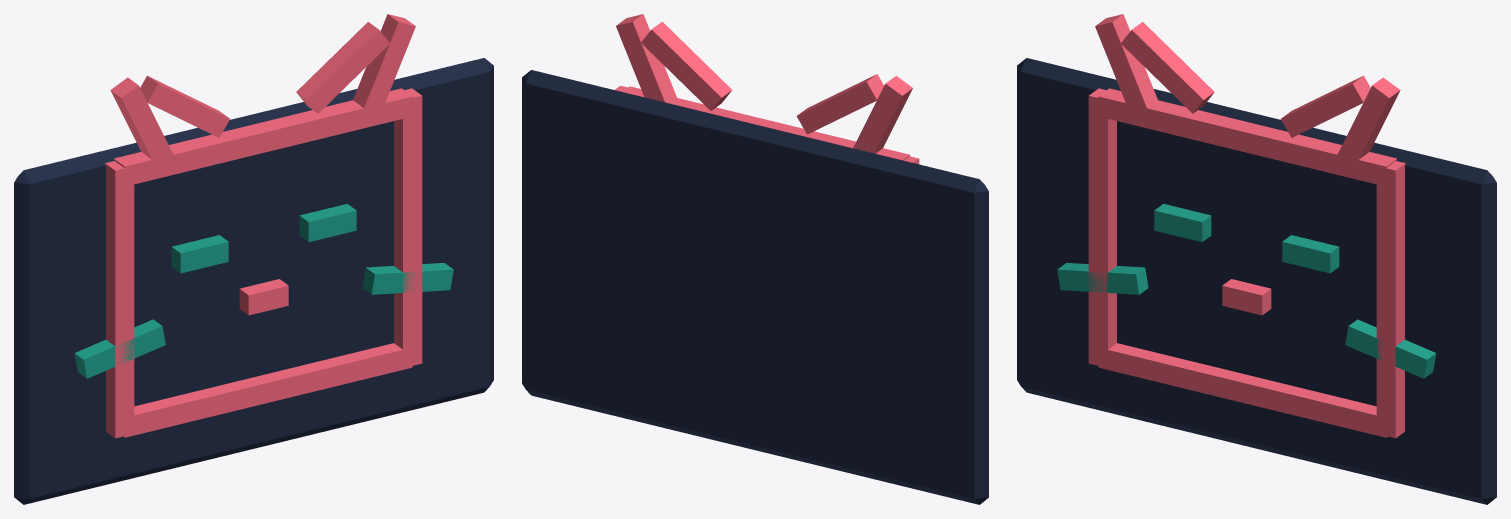
The model's file is CatCafe_Decor_NeonSign.glb.
3 views of the same model, side by side, from view 1: azimuth 30°, elevation 25°; view 2: azimuth 150°, elevation 25°; view 3: azimuth 330°, elevation 25° (orthographic). The views are drawn at different scales.
Visible parts, largest first — view 1: CatCafe_Decor_NeonSign_Board, CatCafe_Decor_NeonSign_Tube; view 2: CatCafe_Decor_NeonSign_Board, CatCafe_Decor_NeonSign_Tube; view 3: CatCafe_Decor_NeonSign_Board, CatCafe_Decor_NeonSign_Tube.
Part boxes in pixels (left/top/right/bottom): CatCafe_Decor_NeonSign_Board: left=14, top=58, right=493, bottom=504; CatCafe_Decor_NeonSign_Tube: left=74, top=14, right=453, bottom=438; CatCafe_Decor_NeonSign_Board: left=522, top=70, right=988, bottom=504; CatCafe_Decor_NeonSign_Tube: left=615, top=14, right=919, bottom=164; CatCafe_Decor_NeonSign_Board: left=1017, top=58, right=1496, bottom=504; CatCafe_Decor_NeonSign_Tube: left=1057, top=14, right=1436, bottom=438.
Bounding box in the file's own units: 3 × 2.42 × 0.22.
1 material, 1 textured.
